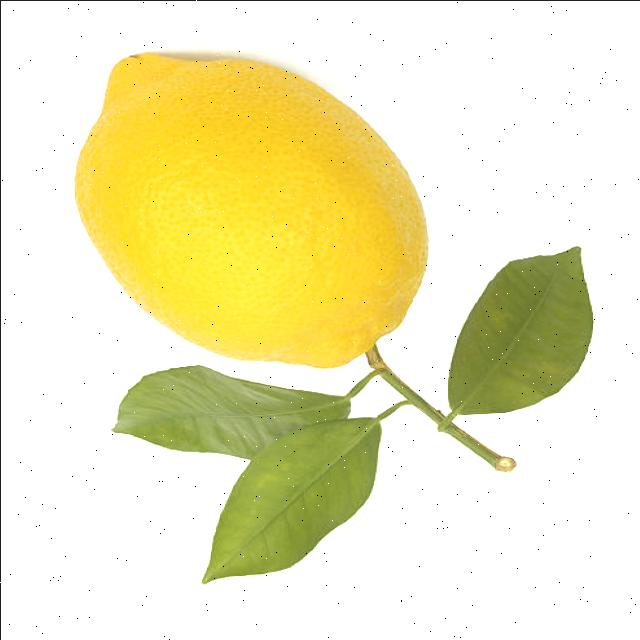Ripe: (62, 46, 434, 372)
